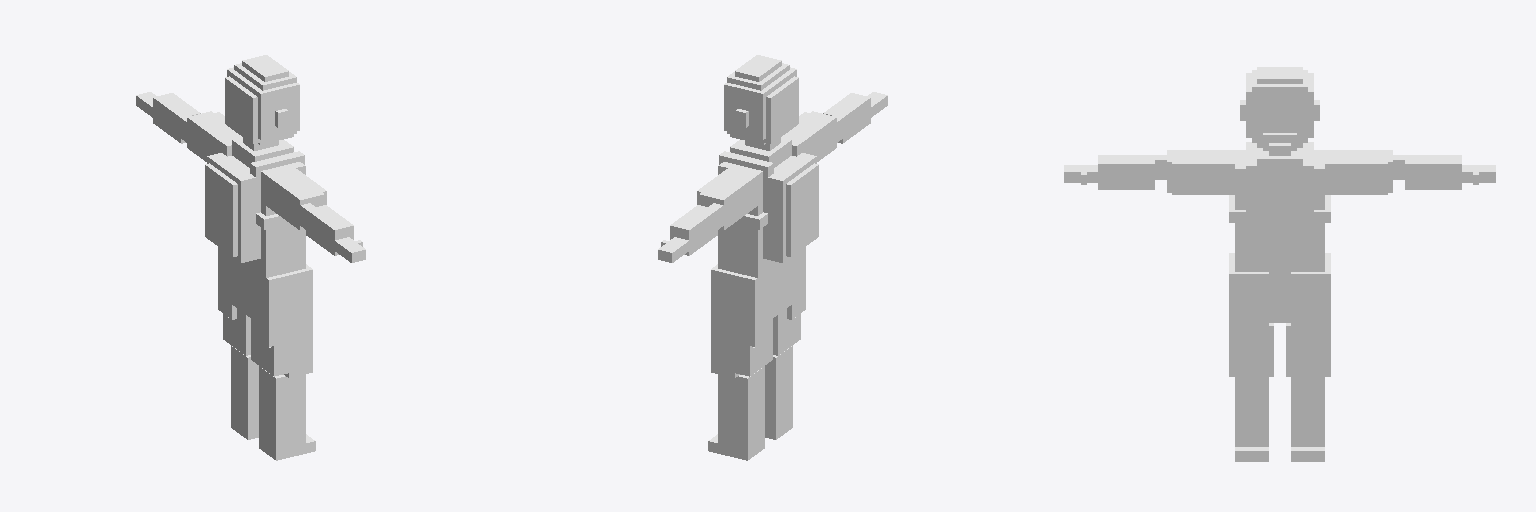
Rendered from main_character.obj.
The picture shows the model from 3 angles: view 1: azimuth 30°, elevation 25°; view 2: azimuth 150°, elevation 25°; view 3: azimuth 270°, elevation 25°; orthographic projection.
Visible parts, largest first — view 1: object 1; view 2: object 1; view 3: object 1.
Boxes of the visible parts, x1=… form: object 1: x1=136, y1=55, x2=365, y2=460; object 1: x1=658, y1=55, x2=887, y2=460; object 1: x1=1064, y1=67, x2=1495, y2=461.
Bounding box in the file's own units: 1.5 × 7.3 × 7.6.